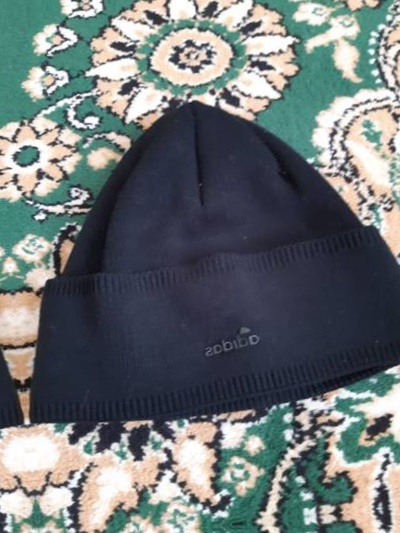Hat: (9, 66, 400, 446), (0, 111, 13, 492)
